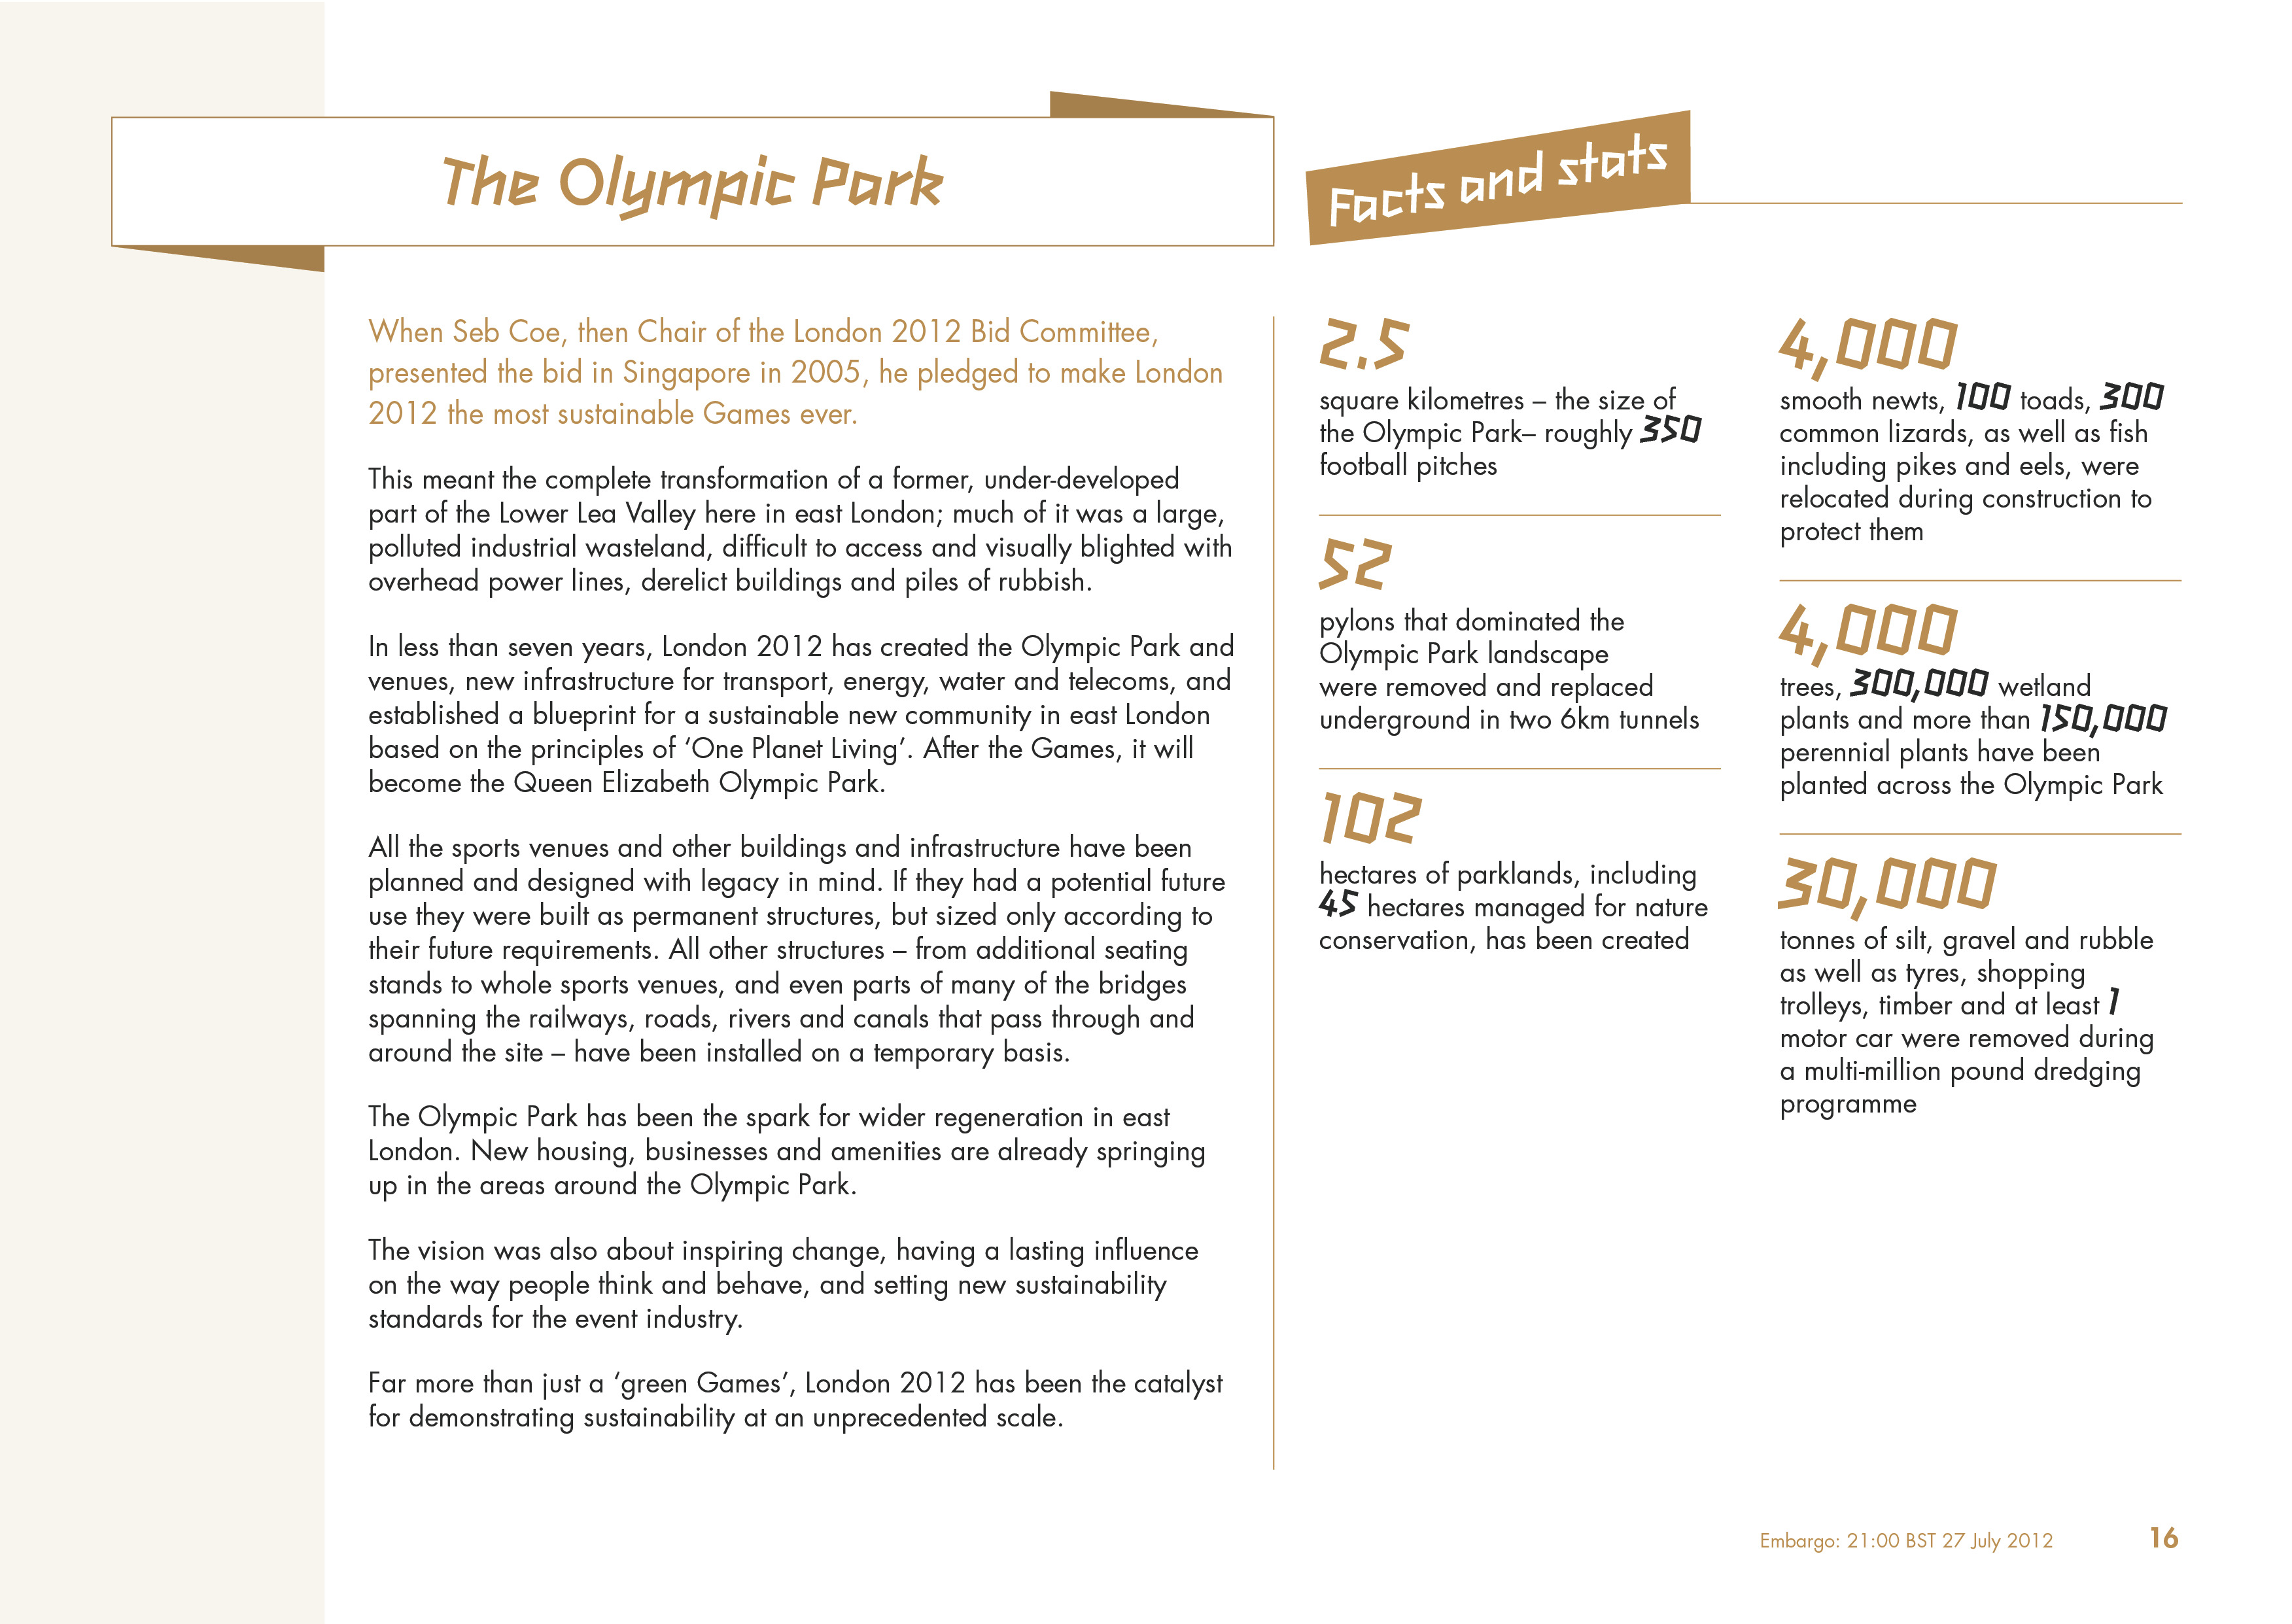section: (367, 313, 1230, 427), (441, 135, 961, 221), (1318, 127, 1675, 236), (1775, 856, 1998, 916), (1779, 315, 1960, 369), (1784, 603, 1956, 656), (1318, 789, 1431, 847), (1329, 316, 1410, 381), (1316, 536, 1389, 591)
text: (374, 838, 1229, 1069), (367, 457, 1230, 606), (367, 640, 1225, 789), (367, 1102, 1208, 1199), (367, 1237, 1204, 1329), (1775, 930, 2151, 1121), (1775, 392, 2164, 548), (366, 1371, 1230, 1432), (1311, 610, 1703, 736), (1784, 675, 2172, 801), (1318, 861, 1710, 954), (1316, 394, 1698, 483), (1758, 1529, 2060, 1555), (2153, 1517, 2187, 1555)
